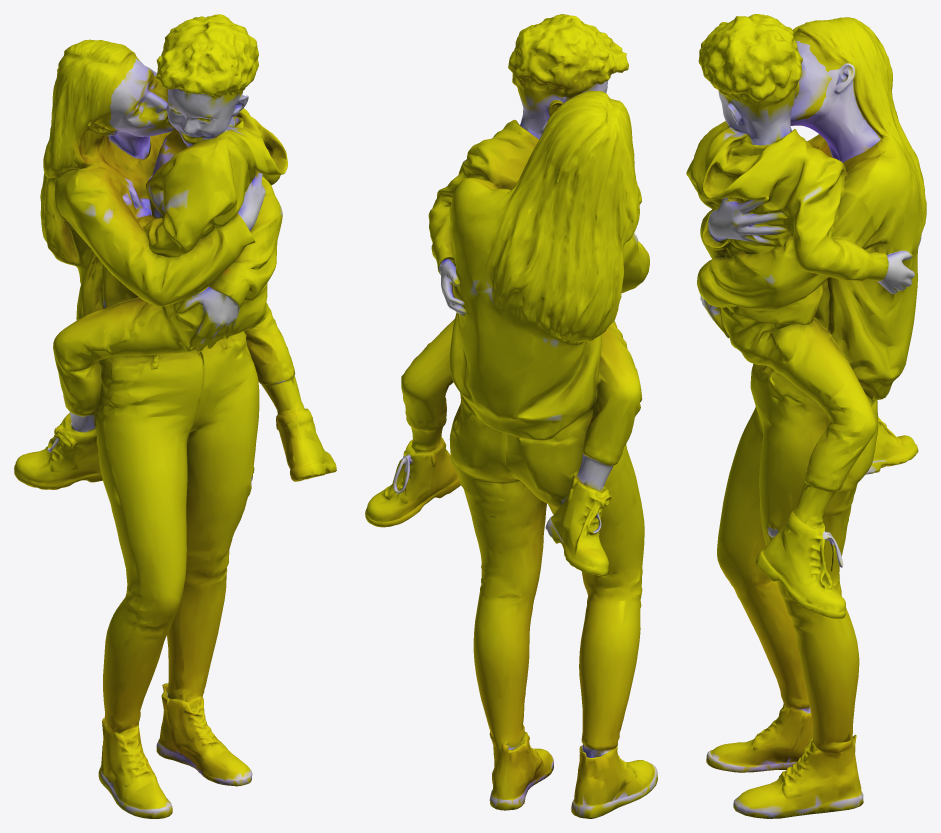
File: fabienne.glb
3 renders of one model, left to right at view 1: azimuth 30°, elevation 25°; view 2: azimuth 150°, elevation 25°; view 3: azimuth 270°, elevation 25°, orthographic. The views are drawn at different scales.
Visible parts, largest first — view 1: person; view 2: person; view 3: person.
Part boxes in pixels (x1,y1,x2,y2): person: (14, 14, 336, 818); person: (365, 14, 657, 818); person: (686, 14, 926, 818).
Bounding box in the file's own units: 0.654 × 1.71 × 0.4782.
